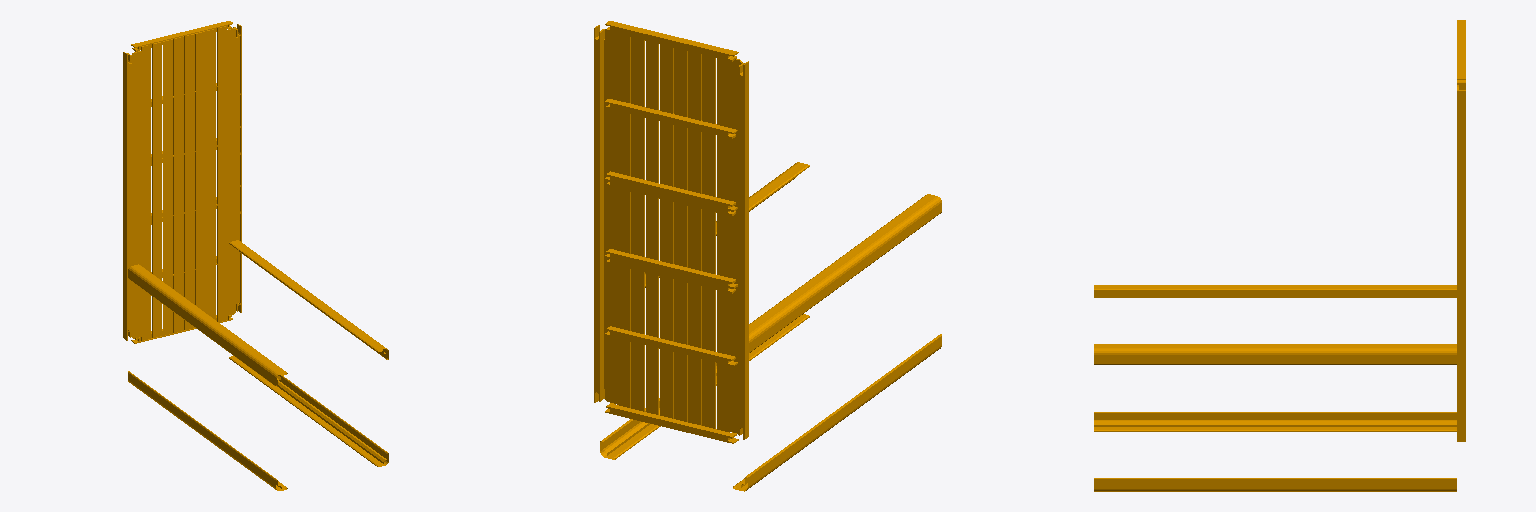
robot.urdf — pallet_rack:
<?xml version="1.0"?>
<robot name="pallet_rack">

  <material name="rack_blue"><color rgba="0.0 0.2 0.6 1.0"/></material>
  <material name="rack_orange"><color rgba="1.0 0.4 0.0 1.0"/></material>

  <link name="rack_base">
    
    <inertial>
      <mass value="100.0"/>
      <origin xyz="0 0 0.1" rpy="0 0 0"/>
      <inertia ixx="45.0" ixy="0.0" ixz="0.0" iyy="45.0" iyz="0.0" izz="5.0"/>
    </inertial>

    <visual><origin xyz="0 0 0" rpy="0 0 0"/><geometry><mesh filename="poll1.dae"/></geometry></visual>
    <collision><origin xyz="0 0 0" rpy="0 0 0"/><geometry><mesh filename="poll1.dae"/></geometry></collision>

    <visual><origin xyz="0 0 0" rpy="0 0 0"/><geometry><mesh filename="poll2.dae"/></geometry></visual>
    <collision><origin xyz="0 0 0" rpy="0 0 0"/><geometry><mesh filename="poll2.dae"/></geometry></collision>

    <visual><origin xyz="0 0 0" rpy="0 0 0"/><geometry><mesh filename="poll3.dae"/></geometry></visual>
    <collision><origin xyz="0 0 0" rpy="0 0 0"/><geometry><mesh filename="poll3.dae"/></geometry></collision>

    <visual><origin xyz="0 0 0" rpy="0 0 0"/><geometry><mesh filename="poll4.dae"/></geometry></visual>
    <collision><origin xyz="0 0 0" rpy="0 0 0"/><geometry><mesh filename="poll4.dae"/></geometry></collision>

    <visual><origin xyz="0 0 0.4" rpy="0 0 0"/><geometry><mesh filename="base1.dae"/></geometry></visual>
    <collision><origin xyz="0 0 0.4" rpy="0 0 0"/><geometry><mesh filename="base1.dae"/></geometry></collision>
    <visual><origin xyz="0 0 0.4" rpy="0 0 0"/><geometry><mesh filename="base2.dae"/></geometry></visual>
    <collision><origin xyz="0 0 0.4" rpy="0 0 0"/><geometry><mesh filename="base2.dae"/></geometry></collision>

    <visual><origin xyz="0 0 1.0" rpy="0 0 0"/><geometry><mesh filename="base1.dae"/></geometry></visual>
    <collision><origin xyz="0 0 1.0" rpy="0 0 0"/><geometry><mesh filename="base1.dae"/></geometry></collision>
    <visual><origin xyz="0 0 1.0" rpy="0 0 0"/><geometry><mesh filename="base2.dae"/></geometry></visual>
    <collision><origin xyz="0 0 1.0" rpy="0 0 0"/><geometry><mesh filename="base2.dae"/></geometry></collision>

    <visual><origin xyz="0 0 1.6" rpy="0 0 0"/><geometry><mesh filename="base1.dae"/></geometry></visual>
    <collision><origin xyz="0 0 1.6" rpy="0 0 0"/><geometry><mesh filename="base1.dae"/></geometry></collision>
    <visual><origin xyz="0 0 1.6" rpy="0 0 0"/><geometry><mesh filename="base2.dae"/></geometry></visual>
    <collision><origin xyz="0 0 1.6" rpy="0 0 0"/><geometry><mesh filename="base2.dae"/></geometry></collision>

    <visual><origin xyz="0 0 2.2" rpy="0 0 0"/><geometry><mesh filename="base1.dae"/></geometry></visual>
    <collision><origin xyz="0 0 2.2" rpy="0 0 0"/><geometry><mesh filename="base1.dae"/></geometry></collision>
    <visual><origin xyz="0 0 2.2" rpy="0 0 0"/><geometry><mesh filename="base2.dae"/></geometry></visual>
    <collision><origin xyz="0 0 2.2" rpy="0 0 0"/><geometry><mesh filename="base2.dae"/></geometry></collision>

  </link>
</robot>

--- Facts derived from the render (not from the file) ---
3 views of the same robot in one strip: view 1: azimuth 30°, elevation 25°; view 2: azimuth 150°, elevation 25°; view 3: azimuth 270°, elevation 25° (orthographic).
Model pallet_rack with 1 links and 0 joints (none), rooted at rack_base, posed all joints at 0.
Links seen in each view (by area): view 1: rack_base; view 2: rack_base; view 3: rack_base.
Link boxes in pixels (x1,y1,x2,y2): rack_base: (123, 21, 388, 490); rack_base: (594, 21, 941, 491); rack_base: (1094, 20, 1465, 491).
Bounding box of the posed robot: 1.22 × 2.8 × 3.4 m (x, y, z).
Meshes: 6 distinct files referenced, 12 mesh visuals loaded (6 Collada DAE).
